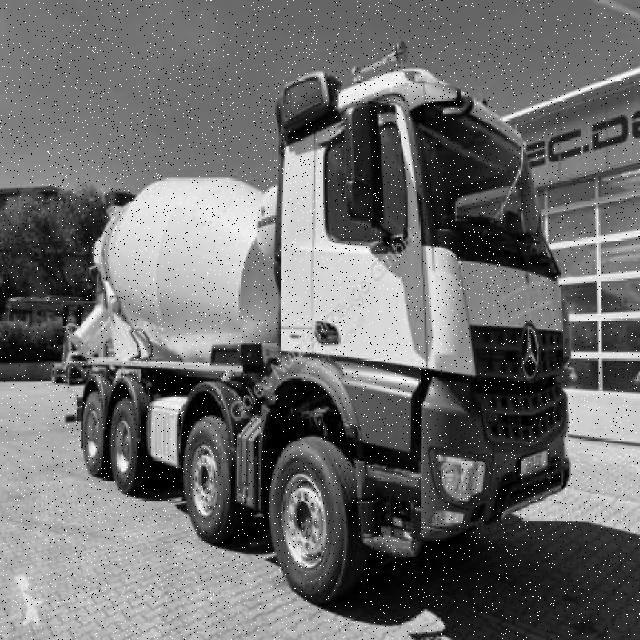Concrete Mixer: (51, 41, 570, 609)
